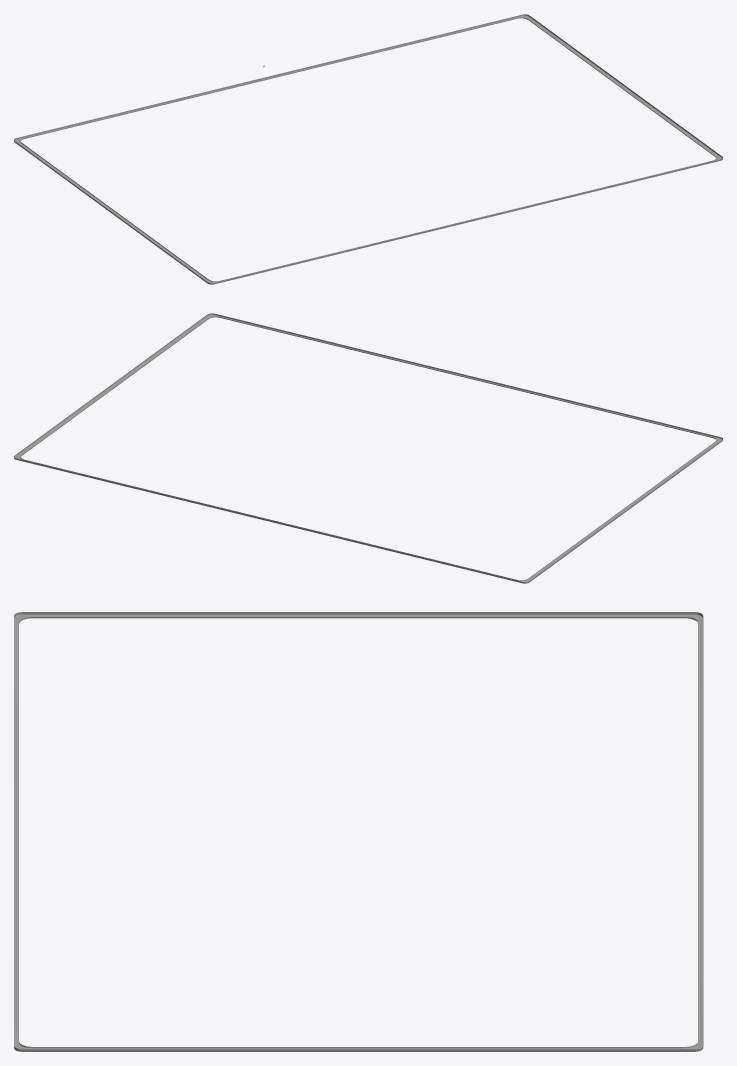
The model's file is LidMeshLaptopLid_17_0_GeomSubset_1.obj.
The picture shows the model from 3 angles, top to bottom: view 1: azimuth 30°, elevation 25°; view 2: azimuth 150°, elevation 25°; view 3: azimuth 270°, elevation 25°; orthographic projection. The views are drawn at different scales.
Visible parts, largest first — view 1: LidMeshLaptopLid_17_0_GeomSubset_1; view 2: LidMeshLaptopLid_17_0_GeomSubset_1; view 3: LidMeshLaptopLid_17_0_GeomSubset_1.
Part boxes in pixels (x1,y1,x2,y2): LidMeshLaptopLid_17_0_GeomSubset_1: (14,14,722,284); LidMeshLaptopLid_17_0_GeomSubset_1: (14,313,722,583); LidMeshLaptopLid_17_0_GeomSubset_1: (14,612,703,1051).
Bounding box in the file's own units: 0.4804 × 0.00702 × 0.3291.
